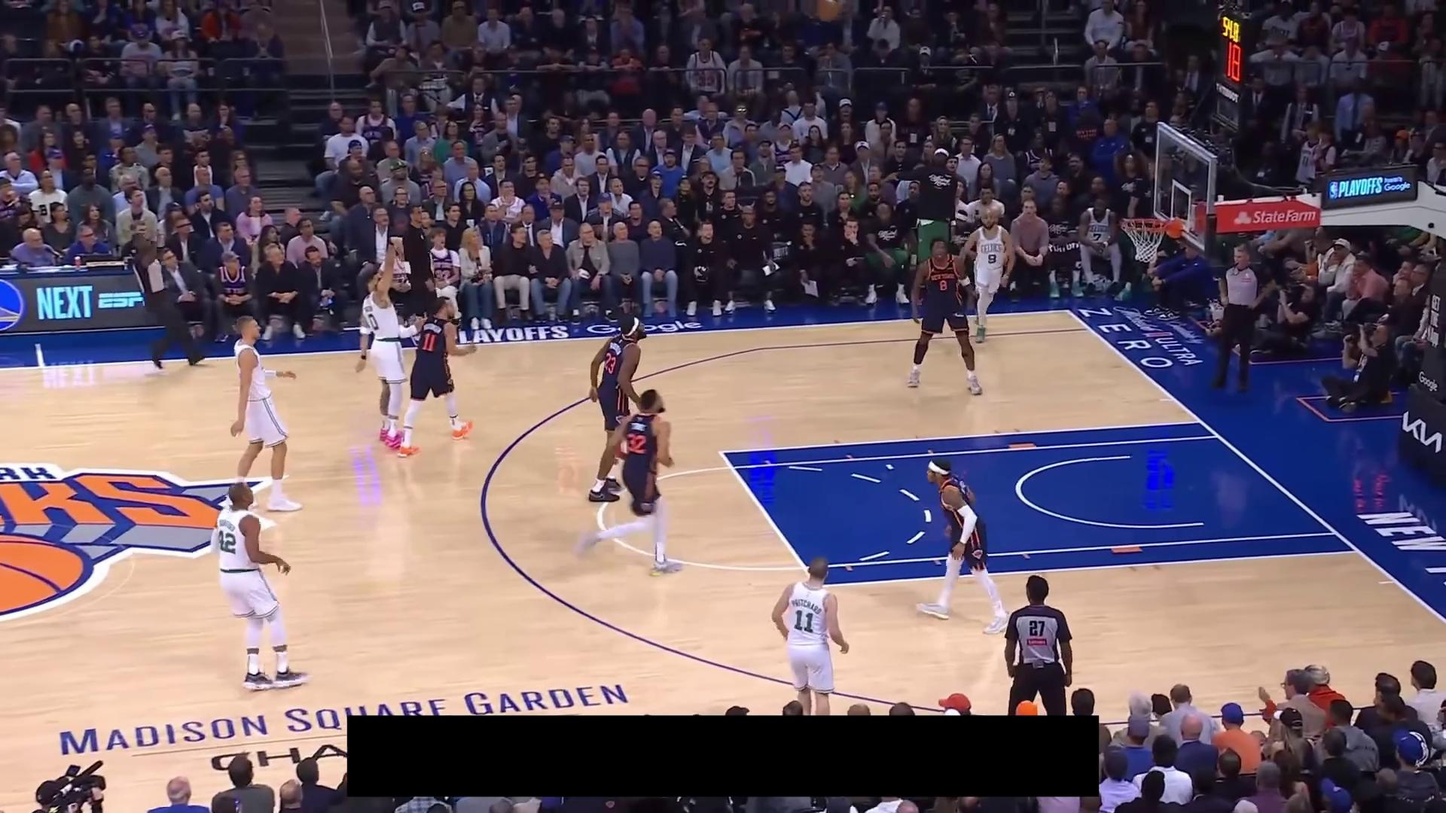ball: (816, 0, 842, 22)
number: (624, 431, 647, 454), (794, 609, 814, 633), (218, 529, 236, 554), (421, 332, 436, 352), (605, 352, 617, 374), (367, 312, 380, 331), (987, 253, 997, 265), (939, 279, 948, 291)
player: (209, 481, 312, 693), (572, 386, 685, 577), (915, 454, 1011, 638), (229, 314, 303, 513), (395, 294, 477, 457), (769, 553, 851, 715), (355, 239, 416, 451), (906, 236, 984, 396), (585, 314, 649, 504), (956, 206, 1017, 343)
referee: (132, 219, 208, 370), (1209, 243, 1277, 392), (1003, 574, 1074, 716)
rim: (1120, 217, 1168, 232)
